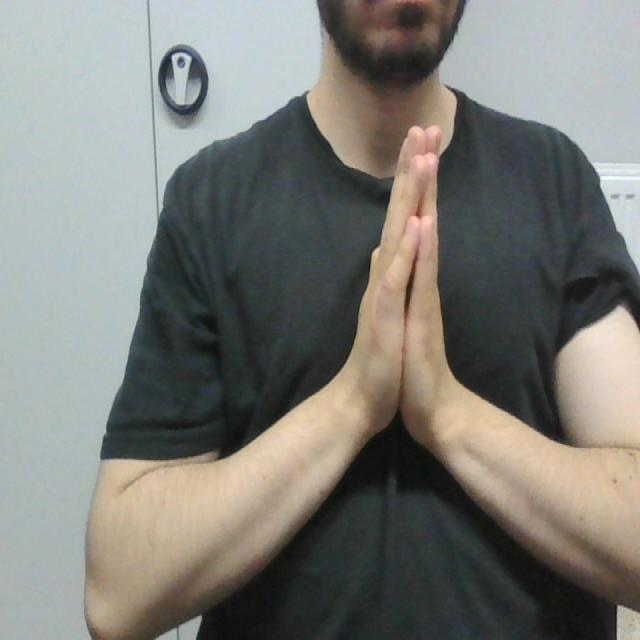Ozur-Dilemek: (342, 118, 468, 466)
